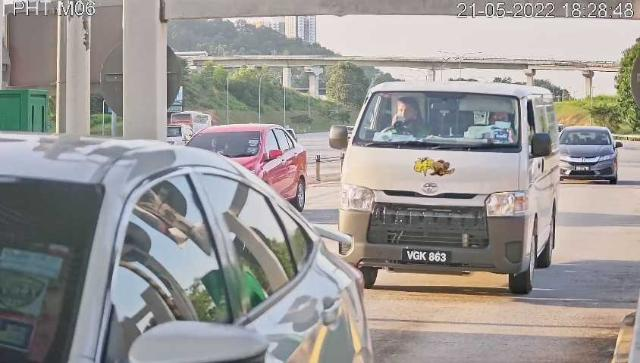License_Plate: (405, 246, 455, 271)
van: (340, 82, 560, 296)
